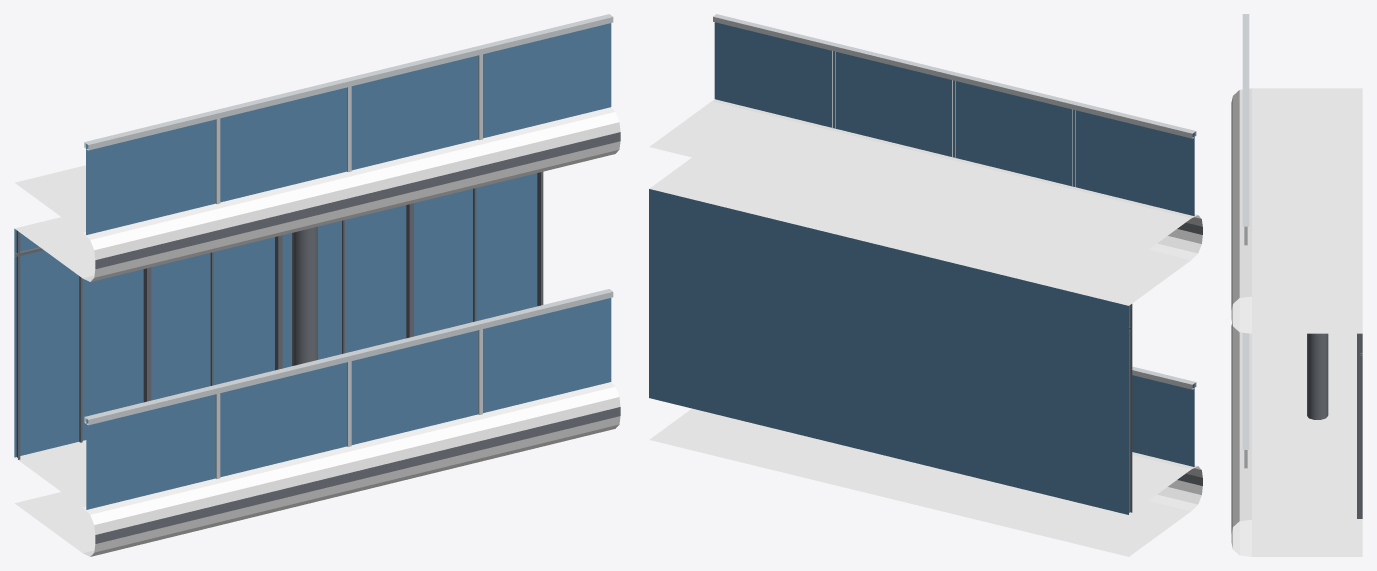
File: top-w1_close.fbx
3 renders of one model, left to right at view 1: azimuth 30°, elevation 25°; view 2: azimuth 150°, elevation 25°; view 3: azimuth 270°, elevation 25°, orthographic. The views are drawn at different scales.
Parts seen in each view (by area): view 1: a2012/800/top-w1_close; view 2: a2012/800/top-w1_close; view 3: a2012/800/top-w1_close.
Boxes of the visible parts, x1=… form: a2012/800/top-w1_close: x1=14, y1=14, x2=620, y2=556; a2012/800/top-w1_close: x1=649, y1=14, x2=1202, y2=556; a2012/800/top-w1_close: x1=1231, y1=14, x2=1362, y2=556.
Size of the model in its own units: 6 by 4.5 by 1.6.
